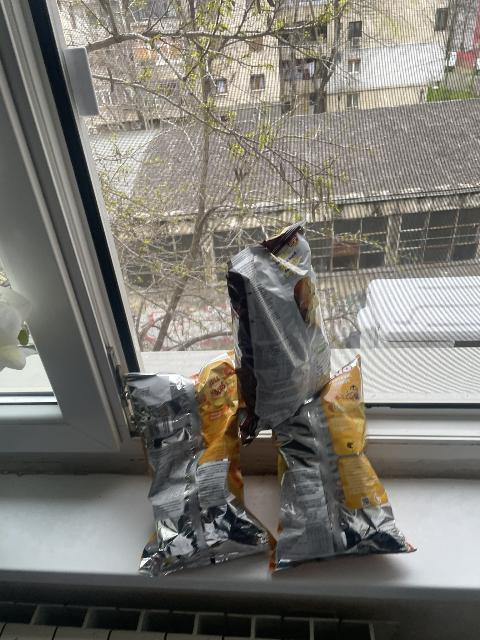Chio Cascaval 125g: (270, 350, 415, 572)
Chio Hula Hoops Cheese 70g: (128, 353, 275, 574)
Lays Beef Grilled Ribs 125g: (226, 221, 329, 440)
